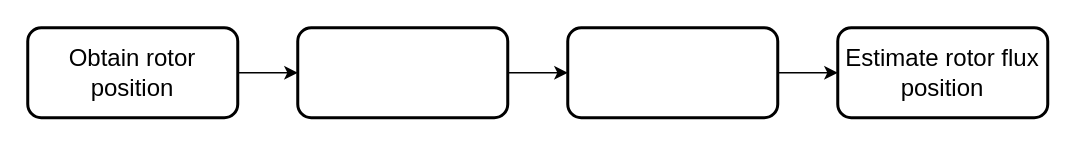
This 1074x144 diagram has some shape labels left out. Here are the shapes that lost their labels. From the top down, the box of each, then its label:
(296, 26, 508, 118): Calculate rotor speed
(566, 26, 778, 118): Obtain rotor flux speed
